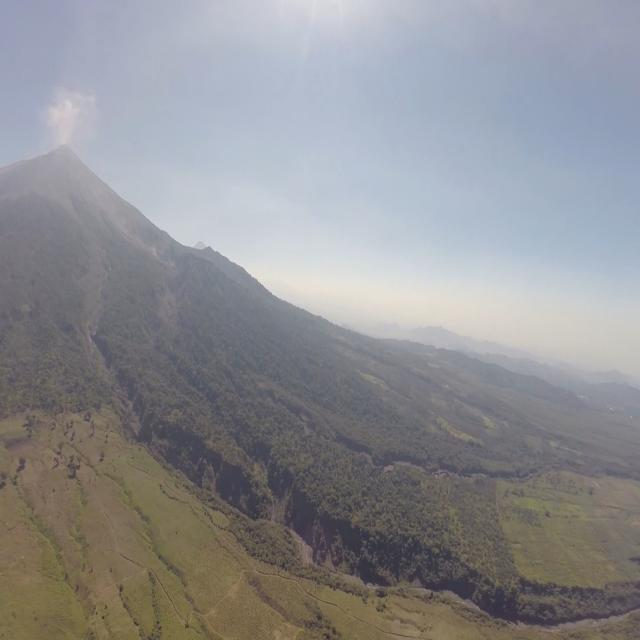Plume: (45, 88, 94, 148)
Summit: (50, 136, 78, 159)
